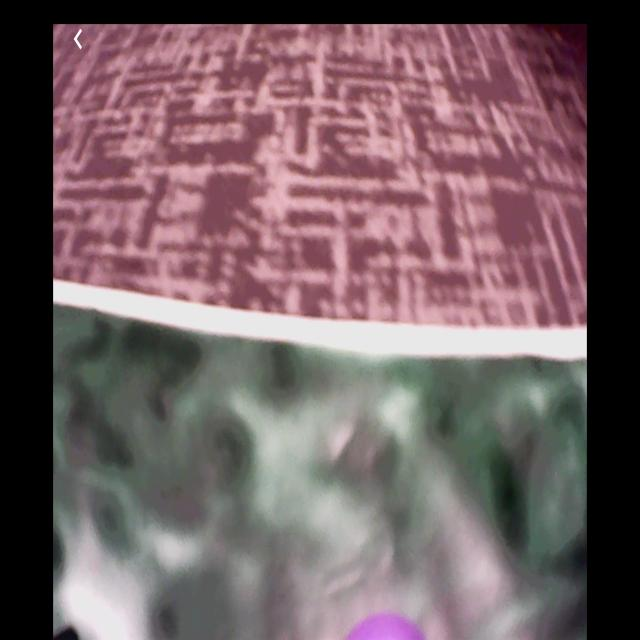ball: (349, 616, 423, 640)
